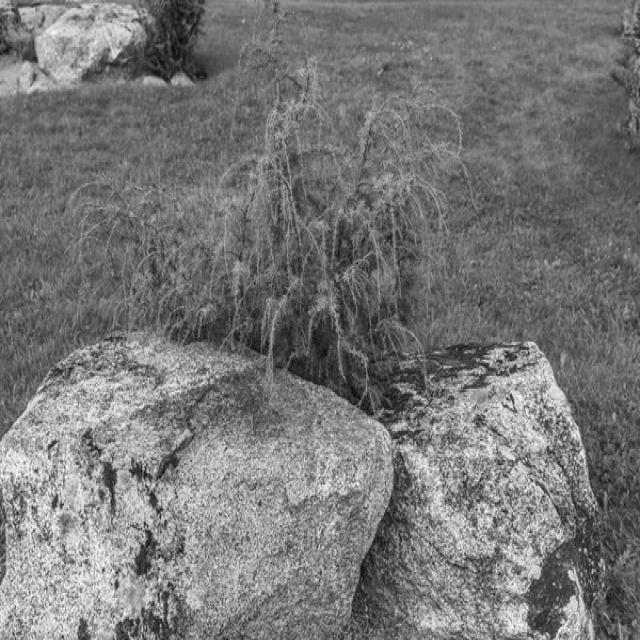Stone: (0, 332, 394, 640), (359, 330, 603, 640), (35, 2, 146, 84)
